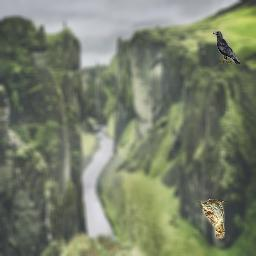Crow: (213, 31, 240, 64)
Sparrow: (199, 199, 225, 239)
